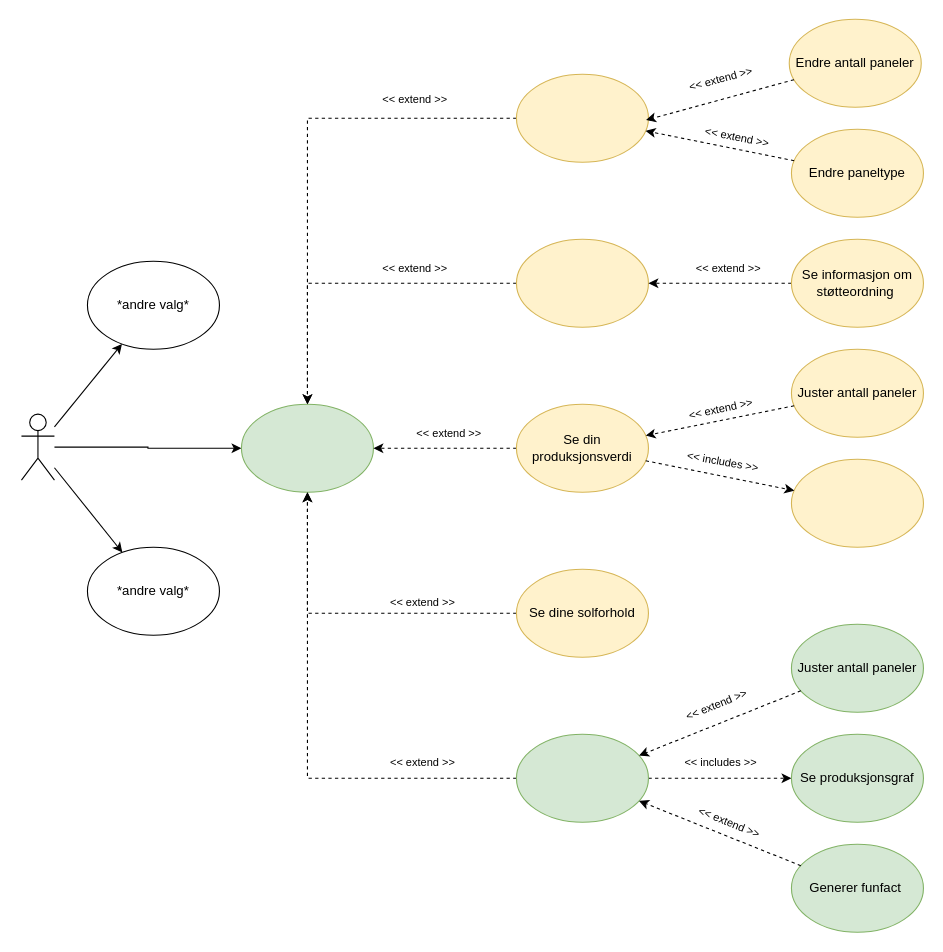
Some shapes in this 943 by 952 pixel diagram are drawn without their labels. The shapes that lost their labels are listed below. From the top down, each one's centre as x and y in pixels, then its label:
At [581,117]: "Endre panelvalg".
At [581,282]: "Se din investering".
At [37,446]: "Bruker".
At [306,447]: "Utforske statistikk".
At [856,502]: "Se verdigraf".
At [581,777]: "Se din strømproduksjon".
